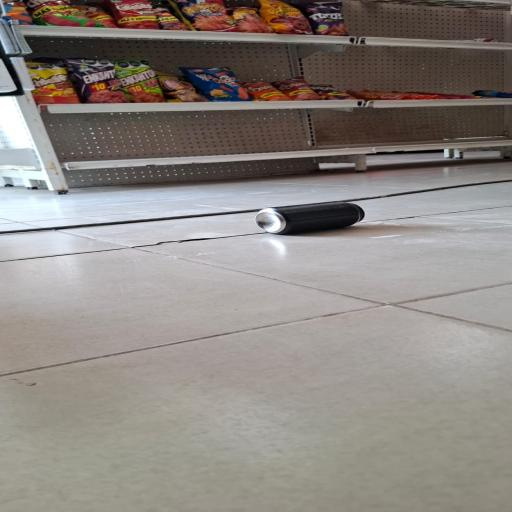LATA: (248, 194, 374, 242)
